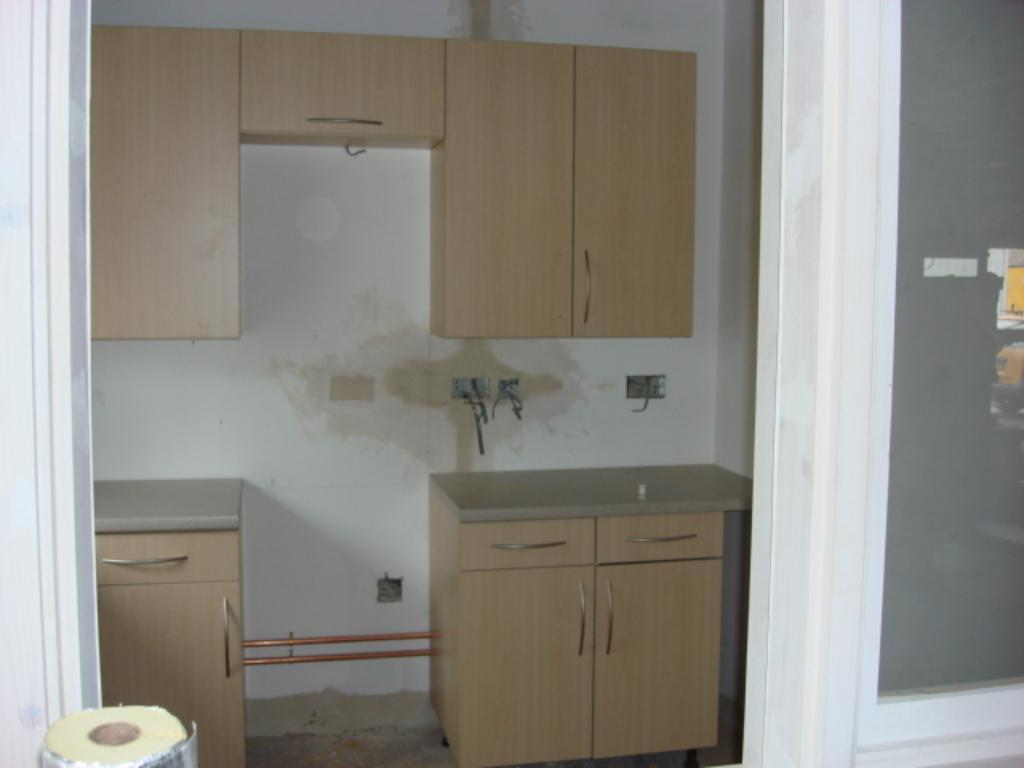door: (774, 9, 1020, 759)
handle: (101, 545, 195, 574), (302, 110, 389, 133), (216, 589, 237, 684), (621, 527, 702, 550), (602, 575, 621, 657), (571, 577, 590, 657), (481, 537, 573, 553), (579, 242, 595, 326)
